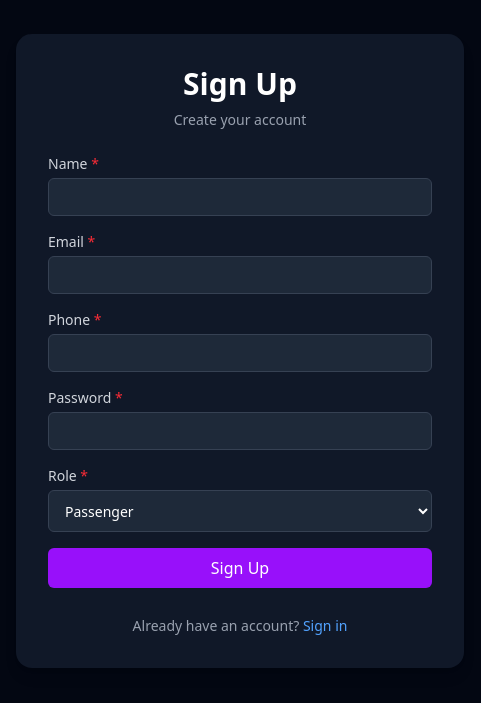
Test: SignUp Component Tests › displays generic error message if API error has no message
This screenshot has width=481, height=703.
Step 1. Type "Test User" into the field with test id "signup-name" → x=240, y=197, box [48,178,432,216]
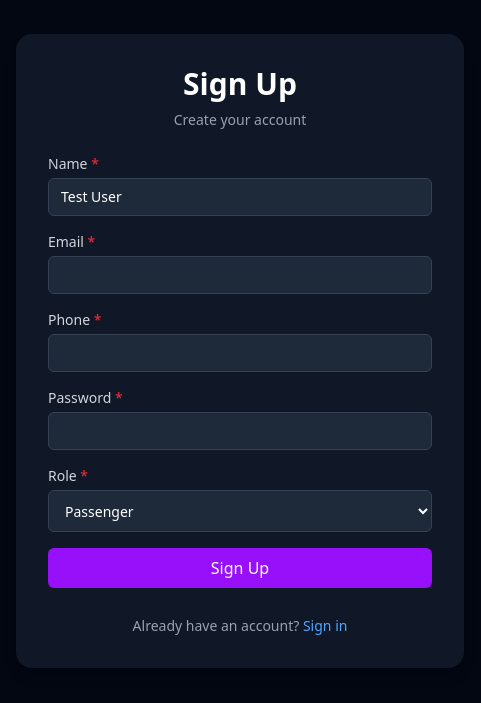
Step 2. Type "test@example.com" into the field with test id "signup-email" → x=240, y=275, box [48,256,432,294]
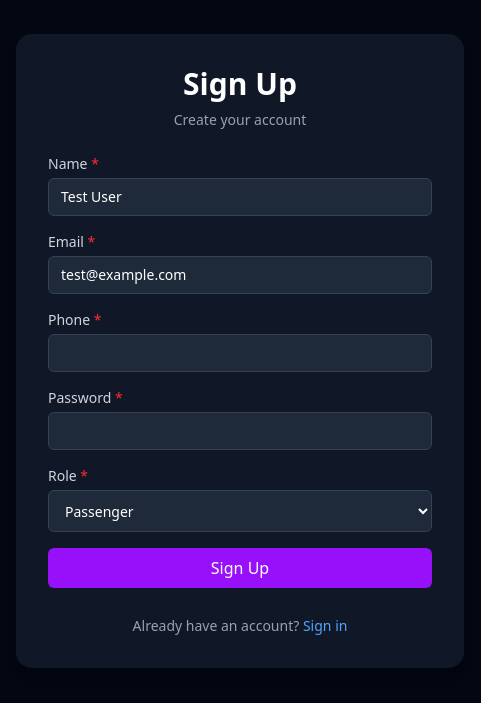
Step 3. Type "1234567890" into the field with test id "signup-phone" → x=240, y=353, box [48,334,432,372]
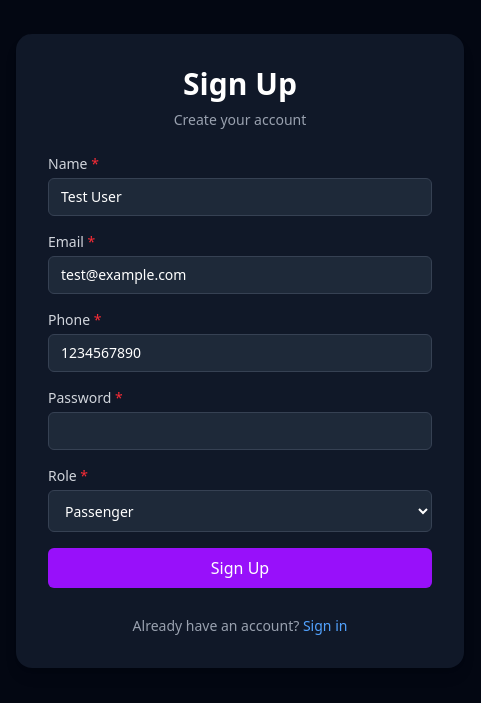
Step 4. Type "securePass" into the password field with test id "signup-password" → x=240, y=431, box [48,412,432,450]
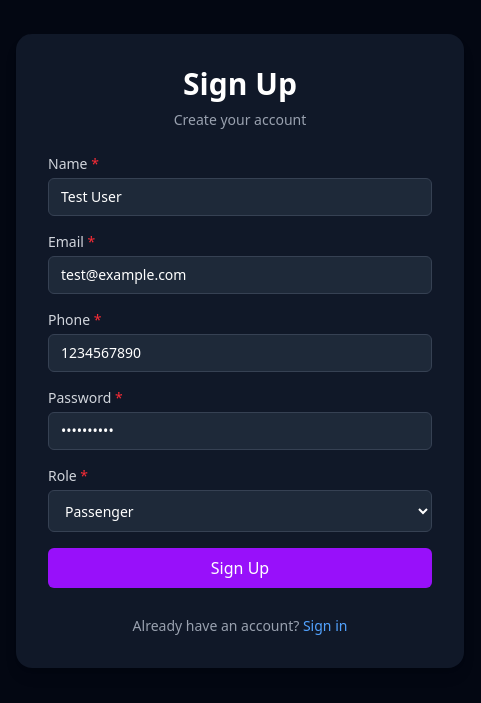
Step 5. Click the button "Sign Up" → x=240, y=568, box [48,548,432,588]
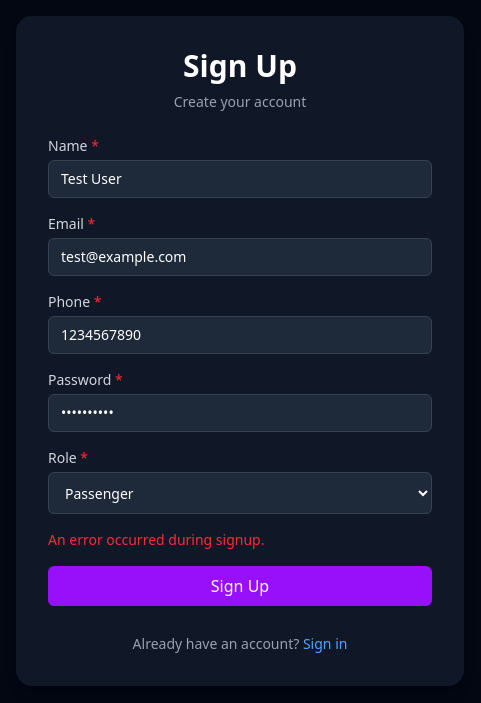
Now the text "An error occurred during signup." is shown, box [48,530,264,549]
